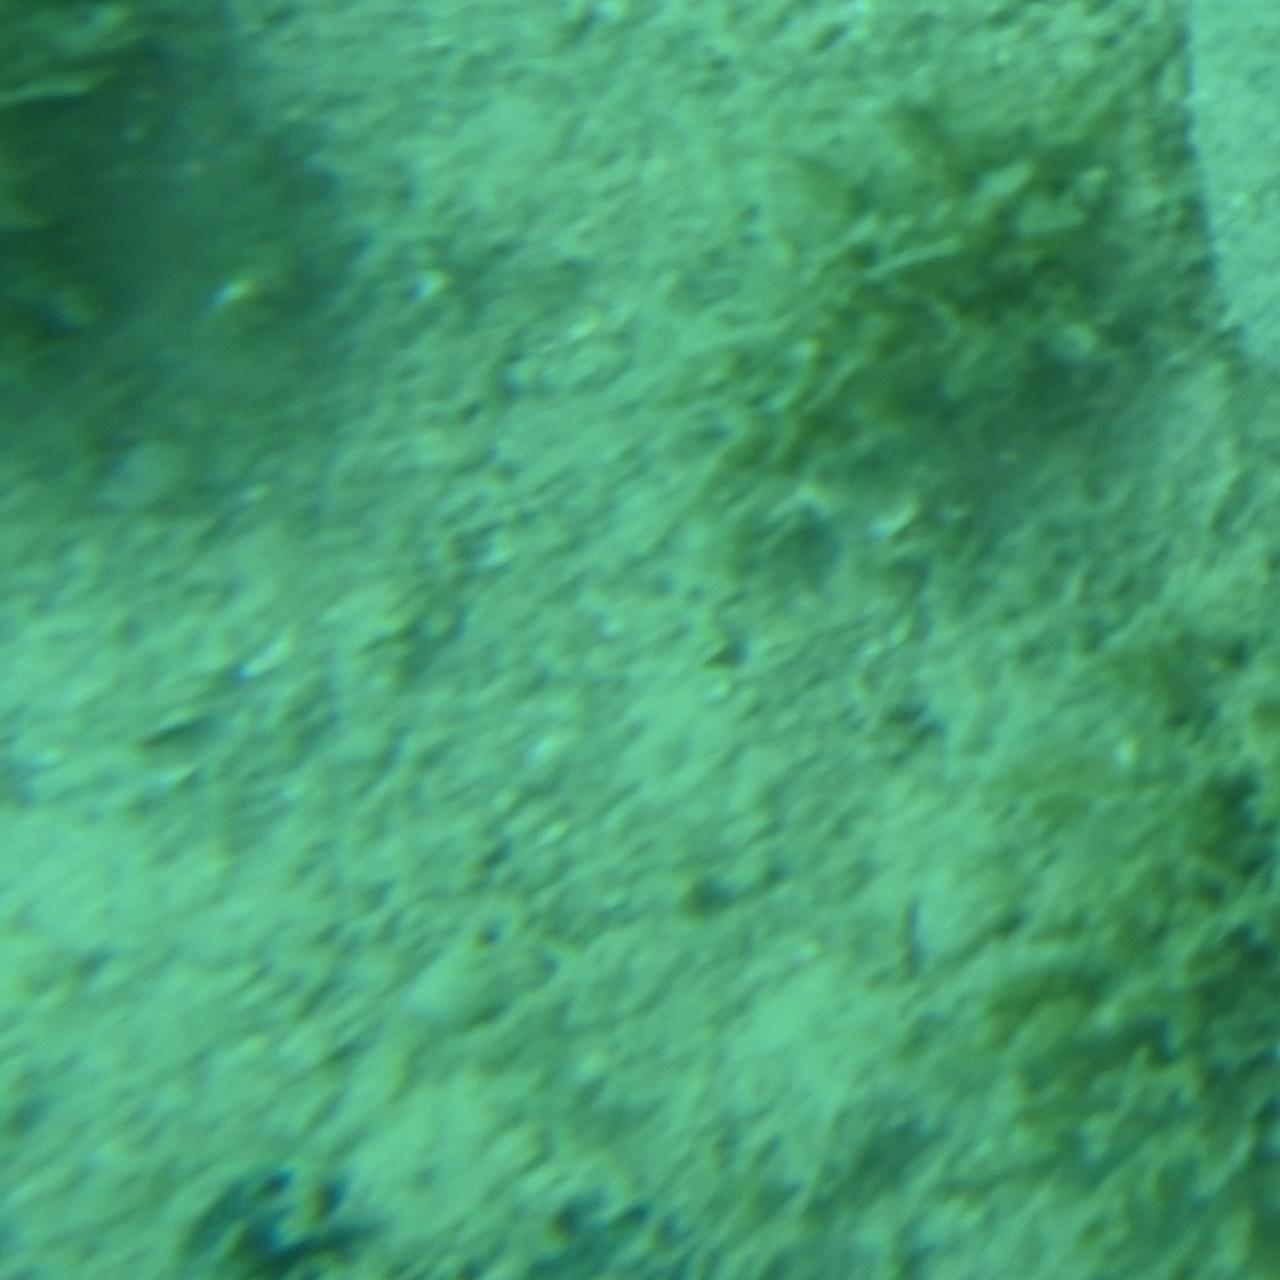Holothuria tubulosa: (1103, 0, 1280, 503), (166, 1124, 737, 1280)
Phaeophyceae -cfr Cystoseira-: (681, 12, 1167, 625), (932, 572, 1280, 1280), (0, 0, 226, 476)
